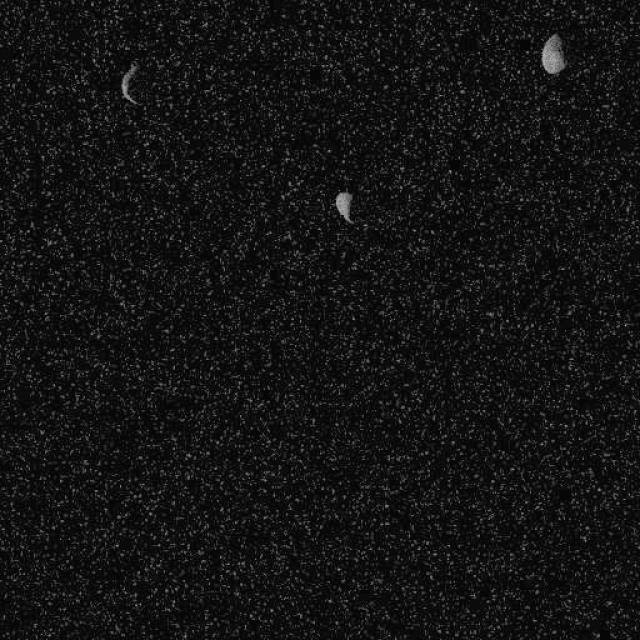D2: (540, 31, 566, 75), (120, 60, 140, 105), (334, 190, 354, 224)
